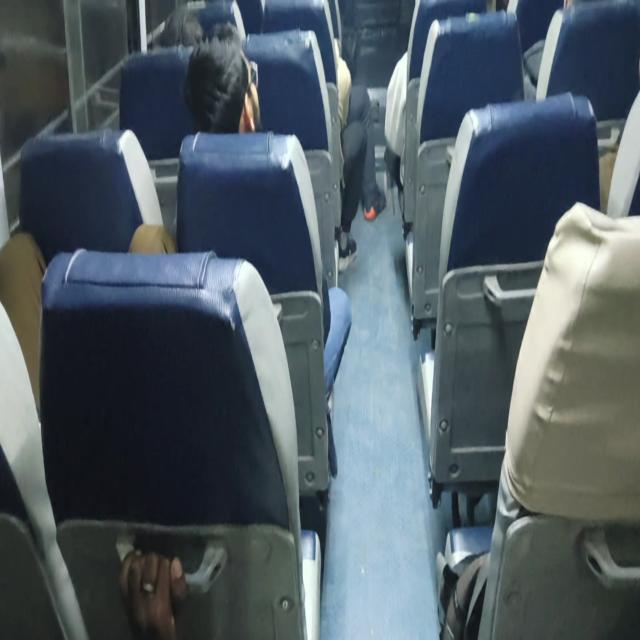person: (194, 33, 272, 133), (159, 0, 216, 44)
